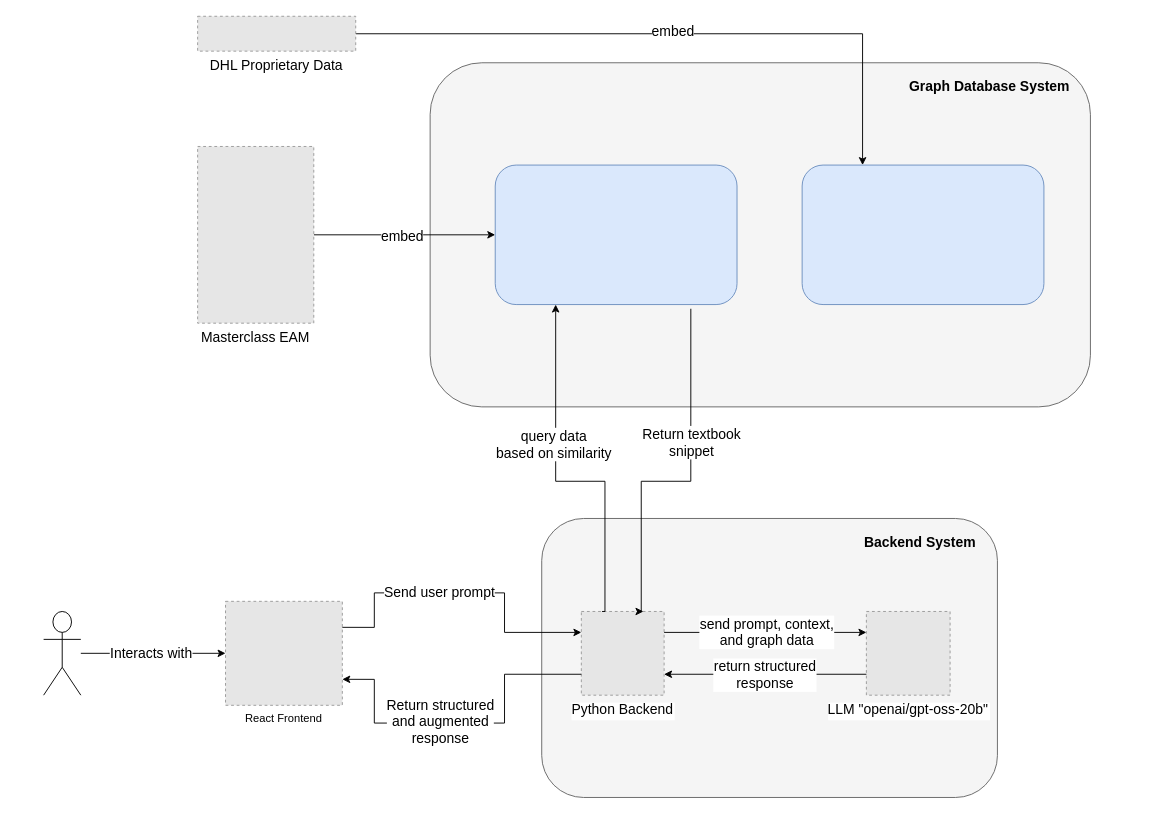
This 1153x814 diagram has some shape labels left out. Grey dashed boxes stand in for pictures. The shapes that lost their labels are listed below. From the top down, each one's centre as x and y in pixels, then its label:
(x=615, y=234): Graph DB 1 "EAM Expert"
(x=922, y=234): Graph DB 2 "DHL Data"
(x=62, y=653): User
